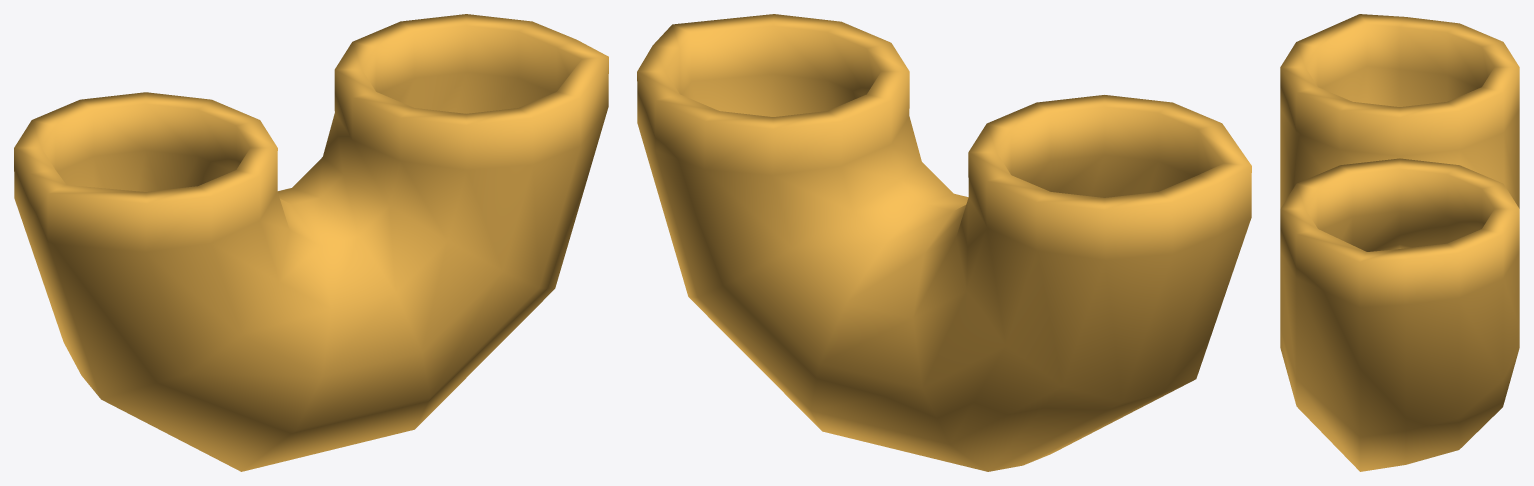
Rendered from Noodle.glb.
The picture shows the model from 3 angles, left to right: view 1: azimuth 30°, elevation 25°; view 2: azimuth 150°, elevation 25°; view 3: azimuth 270°, elevation 25°; orthographic projection. The views are drawn at different scales.
Visible parts, largest first — view 1: pasta; view 2: pasta; view 3: pasta.
Boxes of the visible parts, x1,y1,x2,y2 form: pasta: (14,14,608,471); pasta: (637,14,1251,471); pasta: (1280,14,1519,471).
Size of the model in its own units: 16.31 by 9.05 by 6.64.
1 material, 1 textured.
